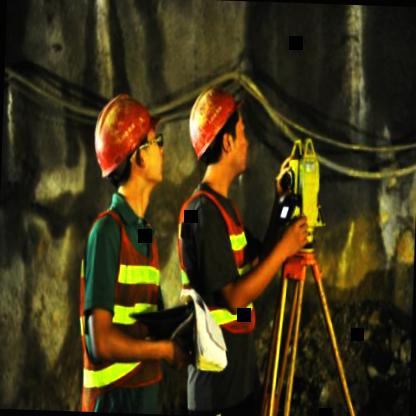helmet: (87, 85, 162, 196), (180, 80, 254, 186)
